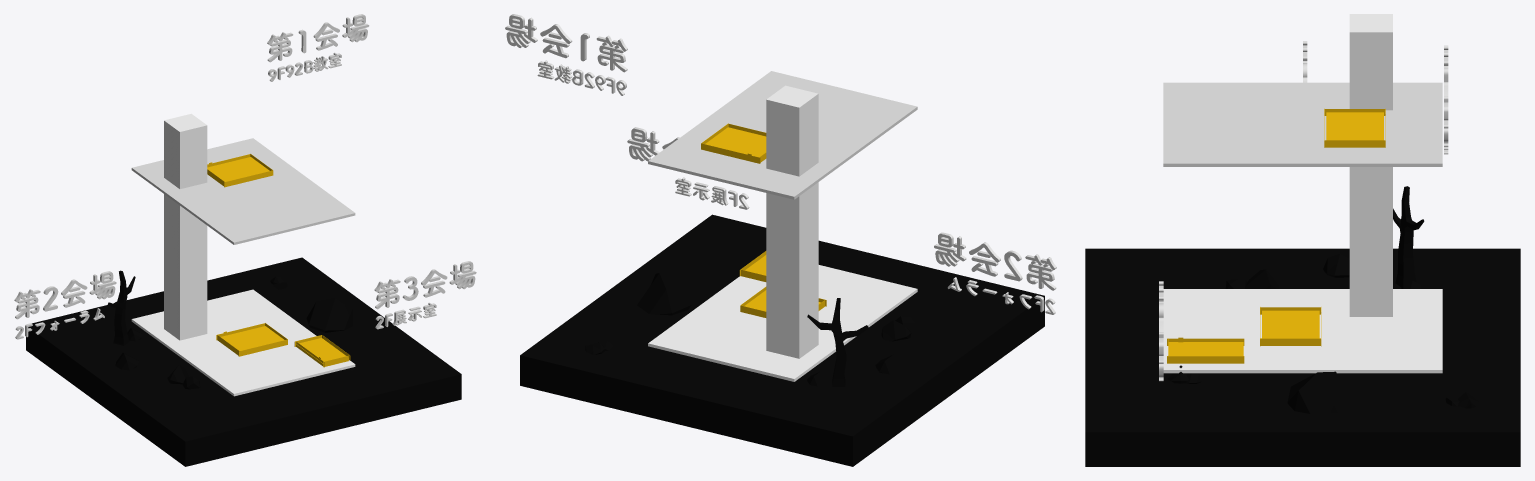
File: venue.gltf
The picture shows the model from 3 angles, left to right: view 1: azimuth 30°, elevation 25°; view 2: azimuth 150°, elevation 25°; view 3: azimuth 270°, elevation 25°; orthographic projection. The views are drawn at different scales.
Parts seen in each view (by area): view 1: Environment, 立方体.1, 立方体, 立方体.2, キャップ 1 (×4), text (×4), 立方体.3 (×3); view 2: Environment, 立方体.2, 立方体.1, 立方体, キャップ 2 (×5), text (×4), 立方体.3; view 3: Environment, 立方体.1, 立方体, 立方体.2, 立方体.3 (×3), 立方体.4 (×2), text (×2), 立方体.9.
Part boxes in pixels (bbox=[...]): Environment: bbox=[26, 257, 461, 466]; 立方体.1: bbox=[131, 138, 355, 244]; 立方体: bbox=[131, 289, 355, 396]; 立方体.2: bbox=[164, 113, 207, 340]; キャップ 1 (×4): bbox=[16, 15, 476, 319]; text (×4): bbox=[14, 14, 475, 318]; 立方体.3 (×3): bbox=[207, 157, 348, 366]; Environment: bbox=[520, 214, 1044, 466]; 立方体.2: bbox=[766, 85, 818, 358]; 立方体.1: bbox=[648, 71, 917, 199]; 立方体: bbox=[648, 265, 917, 381]; キャップ 2 (×5): bbox=[505, 15, 1054, 290]; text (×4): bbox=[506, 14, 1056, 289]; 立方体.3: bbox=[705, 127, 766, 157]; Environment: bbox=[1085, 186, 1520, 466]; 立方体.1: bbox=[1163, 82, 1442, 166]; 立方体: bbox=[1163, 289, 1442, 373]; 立方体.2: bbox=[1349, 14, 1392, 316]; 立方体.3 (×3): bbox=[1168, 112, 1383, 355]; 立方体.4 (×2): bbox=[1260, 140, 1385, 345]; text (×2): bbox=[1159, 45, 1448, 377]; 立方体.9: bbox=[1167, 356, 1244, 363].
Size of the model in its own units: 28.73 by 21.21 by 19.47.
